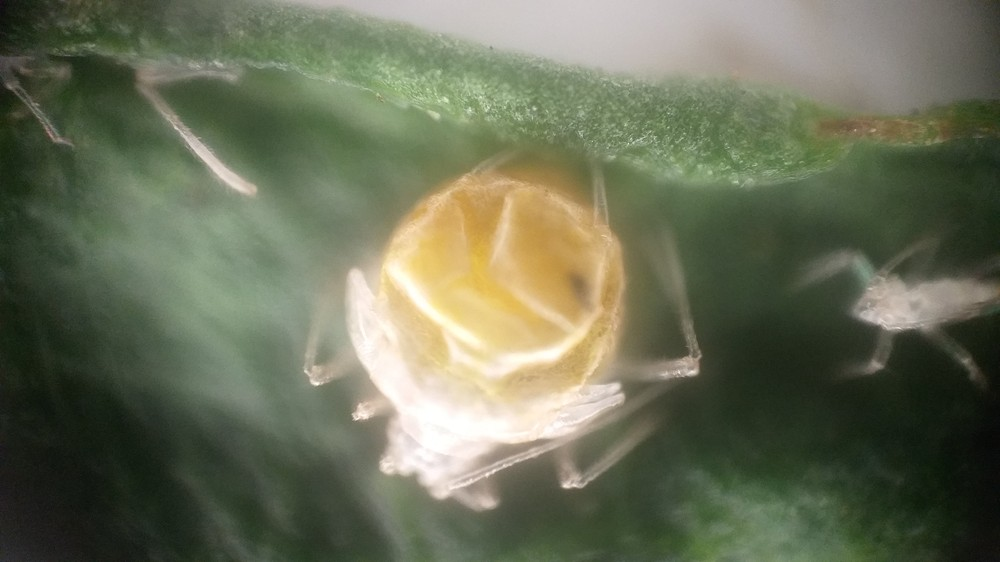Pulgon: (273, 133, 723, 525)
